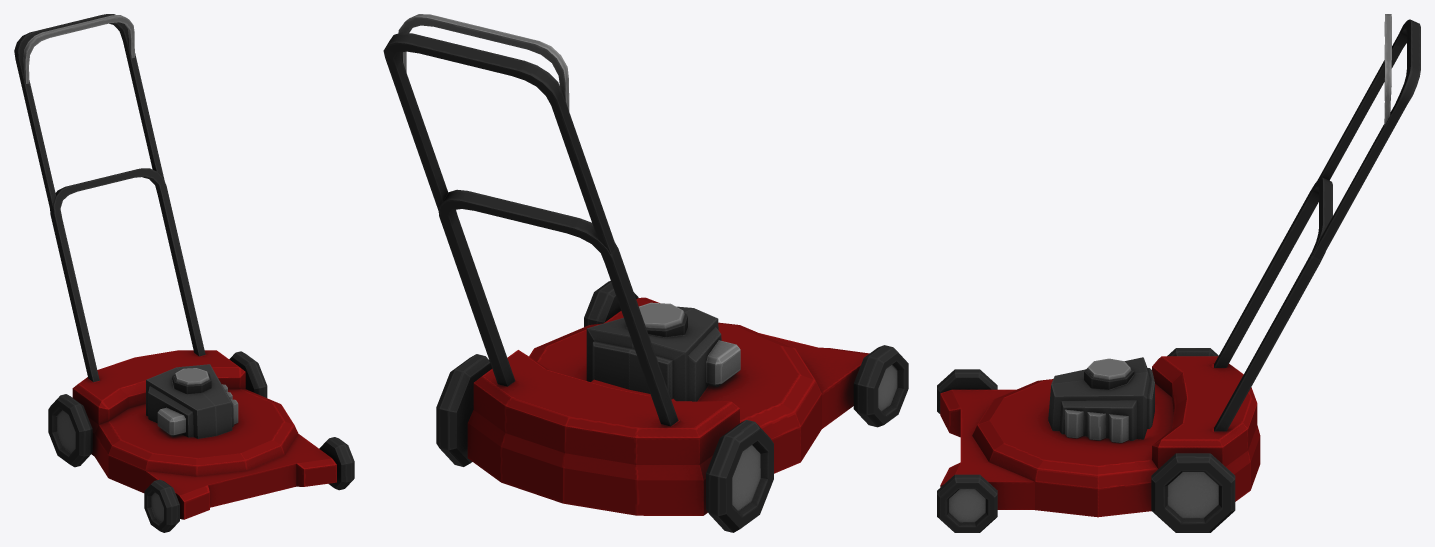
The model's file is LawnMower.obj.
The picture shows the model from 3 angles, left to right: view 1: azimuth 30°, elevation 25°; view 2: azimuth 150°, elevation 25°; view 3: azimuth 270°, elevation 25°; orthographic projection. The views are drawn at different scales.
Visible parts, largest first — view 1: LawnMower_mesh; view 2: LawnMower_mesh; view 3: LawnMower_mesh.
Part boxes in pixels (x1=…): LawnMower_mesh: x1=14, y1=14, x2=354, y2=532; LawnMower_mesh: x1=383, y1=14, x2=908, y2=532; LawnMower_mesh: x1=937, y1=14, x2=1420, y2=532.
Size of the model in its own units: 6.41 by 11.64 by 11.58.
Materials: 1 (1 with a texture image).
